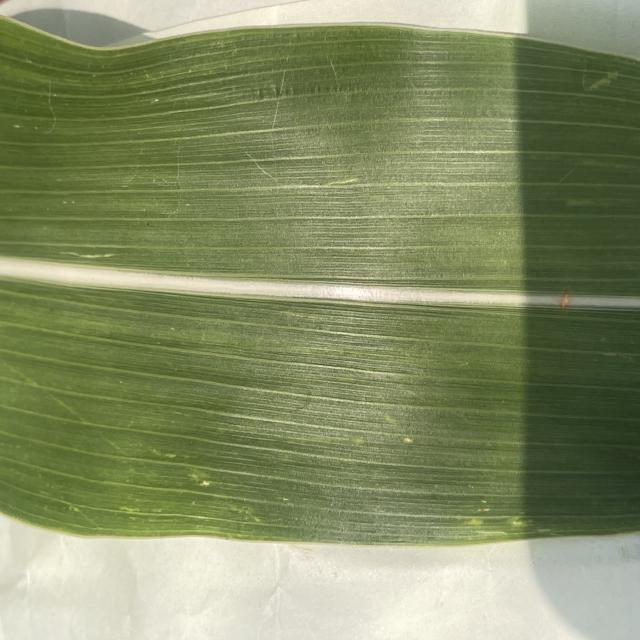millet_healthy: (0, 6, 640, 556)
